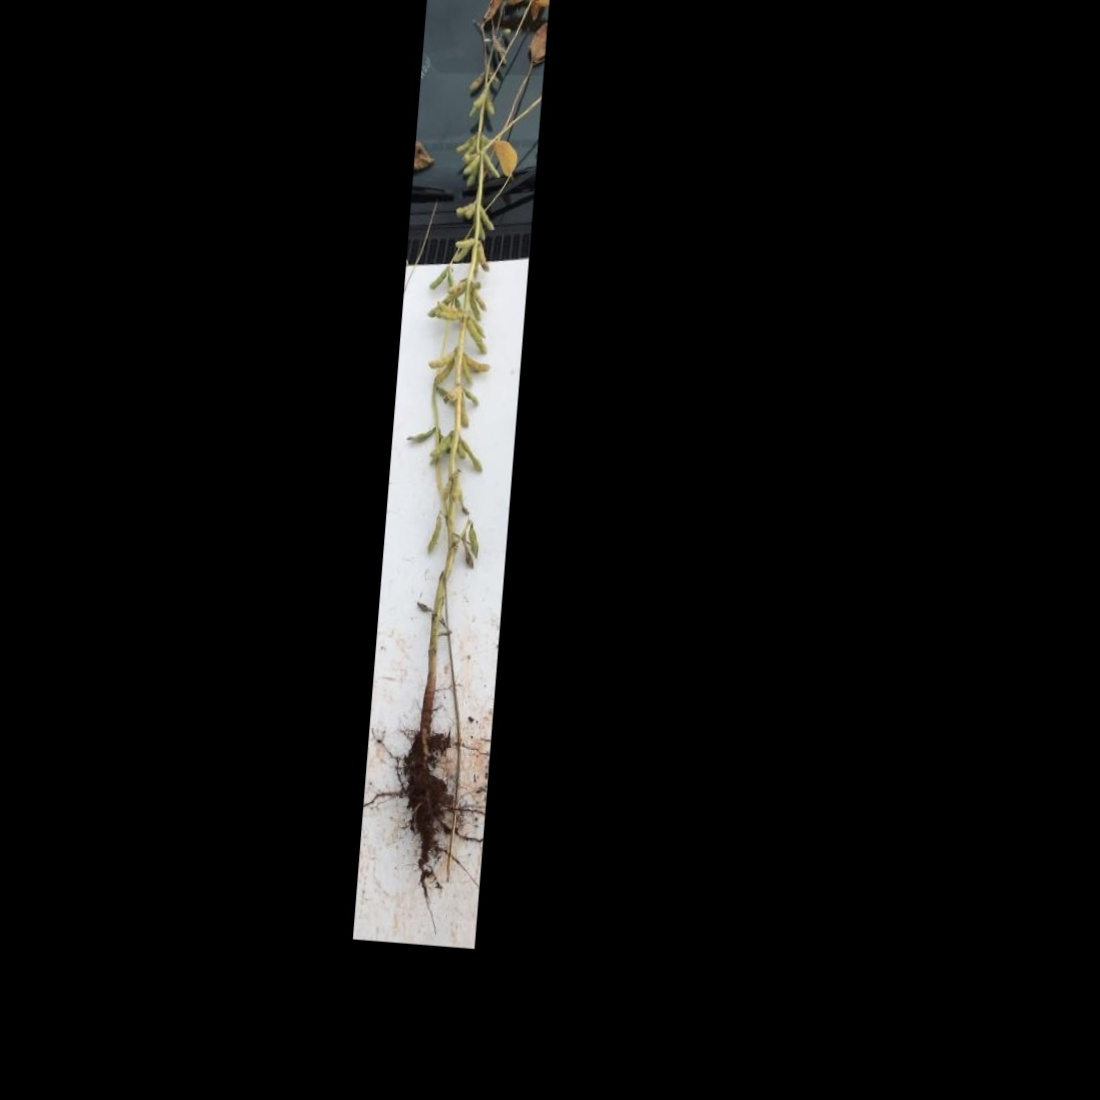pod: (422, 508, 448, 559), (430, 357, 457, 389), (403, 422, 436, 448), (465, 525, 489, 560), (479, 152, 505, 182), (474, 241, 495, 273), (425, 265, 447, 292), (476, 205, 497, 232), (466, 66, 486, 93), (457, 399, 473, 429), (460, 387, 482, 405), (459, 358, 473, 385), (453, 235, 475, 249)
soy: (358, 0, 542, 901)
